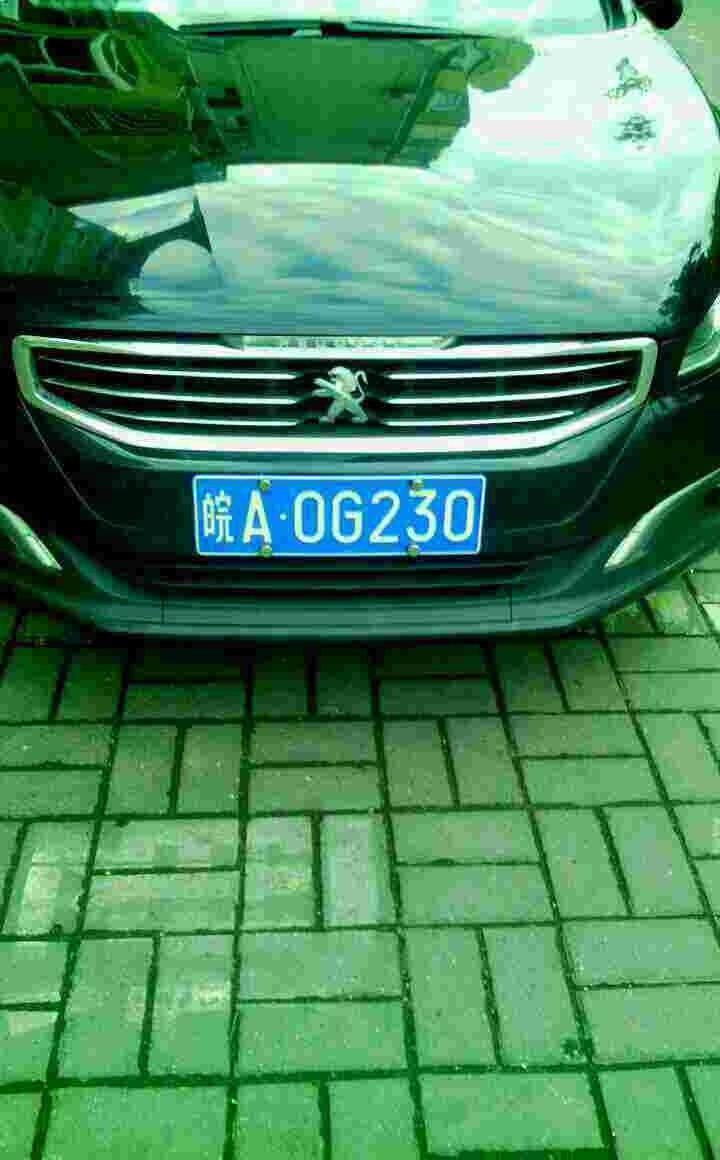license_plate: (193, 473, 487, 567)
